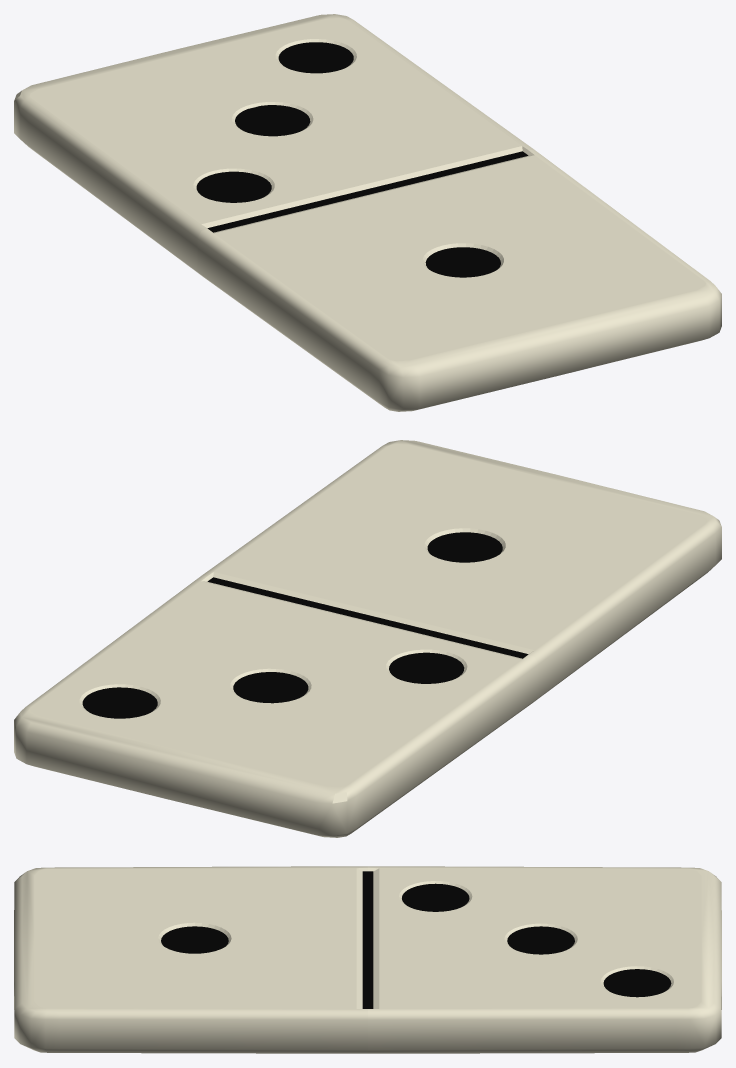
File: Domino_1_3.glb
3 views of the same model, one above another, from view 1: azimuth 30°, elevation 25°; view 2: azimuth 150°, elevation 25°; view 3: azimuth 270°, elevation 25° (orthographic). The views are drawn at different scales.
Visible parts, largest first — view 1: Domino_1_3_A.001, Domino_1_3_B.001; view 2: Domino_1_3_B.001, Domino_1_3_A.001; view 3: Domino_1_3_A.001, Domino_1_3_B.001.
Part boxes in pixels (x1,y1,x2,y2): Domino_1_3_A.001: (197, 149, 721, 411); Domino_1_3_B.001: (14, 14, 533, 276); Domino_1_3_B.001: (14, 575, 538, 837); Domino_1_3_A.001: (202, 440, 721, 702); Domino_1_3_A.001: (14, 866, 367, 1053); Domino_1_3_B.001: (368, 866, 721, 1053).
Size of the model in its own units: 0.7725 by 0.105 by 1.54.
